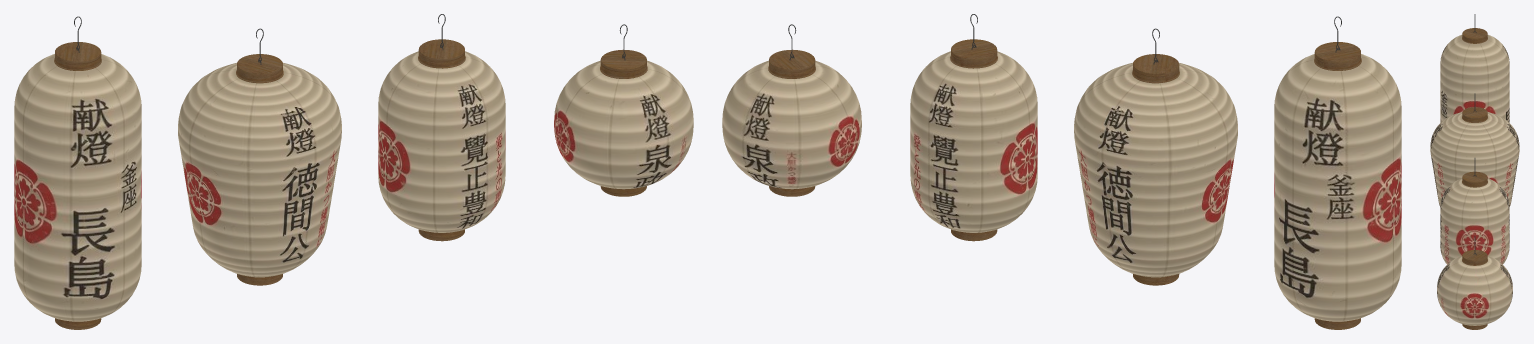
File: japanese_paper_lanterns.glb
The picture shows the model from 3 angles, left to right: view 1: azimuth 30°, elevation 25°; view 2: azimuth 150°, elevation 25°; view 3: azimuth 270°, elevation 25°; orthographic projection. The views are drawn at different scales.
Visible parts, largest first — view 1: paper lantern2, paper lantern4, paper lantern1, paper lantern3; view 2: paper lantern2, paper lantern4, paper lantern1, paper lantern3; view 3: paper lantern4, paper lantern2, paper lantern1, paper lantern3.
Part boxes in pixels (<box>): paper lantern2: <box>14,16,141,329</box>; paper lantern4: <box>178,28,341,285</box>; paper lantern1: <box>378,14,505,241</box>; paper lantern3: <box>554,24,693,196</box>; paper lantern2: <box>1274,16,1401,329</box>; paper lantern4: <box>1074,28,1237,285</box>; paper lantern1: <box>910,14,1037,241</box>; paper lantern3: <box>722,24,861,196</box>; paper lantern4: <box>1430,93,1519,206</box>; paper lantern2: <box>1440,14,1509,122</box>; paper lantern1: <box>1440,158,1509,264</box>; paper lantern3: <box>1437,236,1512,329</box>.
Bounding box in the file's own units: 2.18 × 0.9575 × 0.4693.
1 material, 1 textured.
